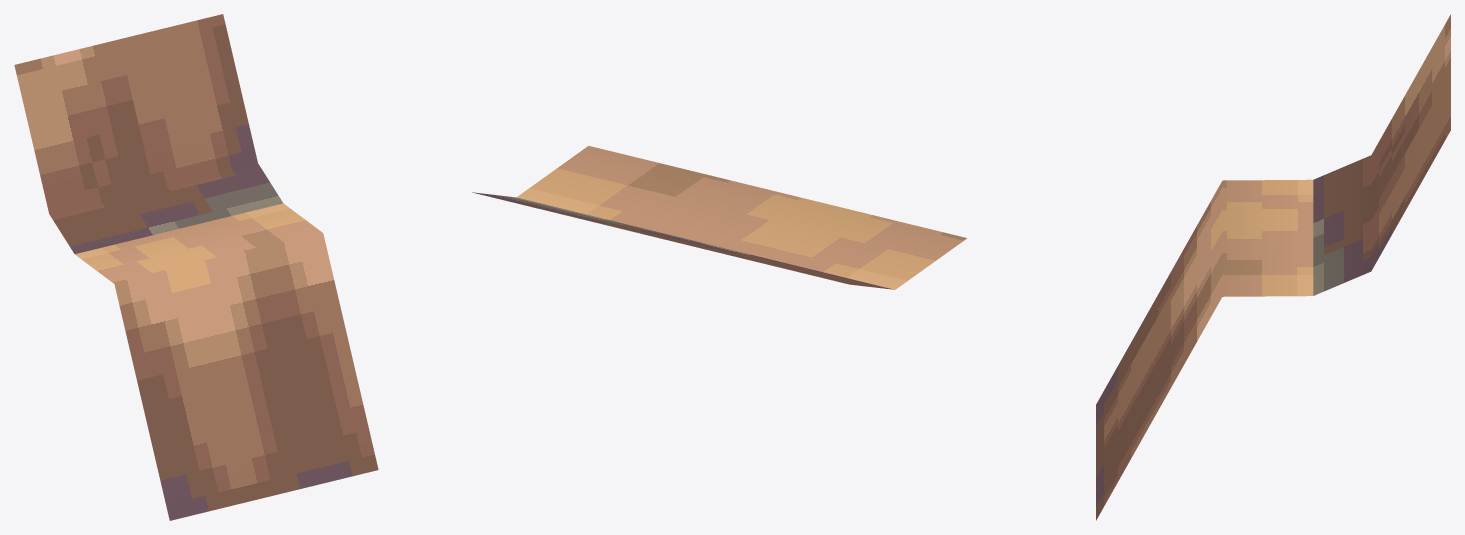
3 views of the same model, side by side, from view 1: azimuth 30°, elevation 25°; view 2: azimuth 150°, elevation 25°; view 3: azimuth 270°, elevation 25° (orthographic). The views are drawn at different scales.
Bounding box in the file's own units: 1 × 1.57 × 1.29.
2 materials, 2 textured.
